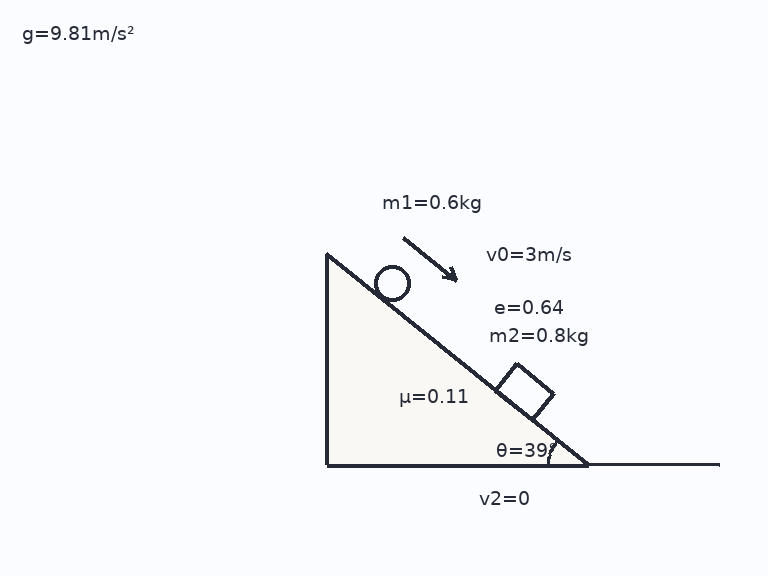ball: (372, 263, 412, 303)
block: (494, 362, 555, 421)
ramp: (324, 251, 590, 467)
